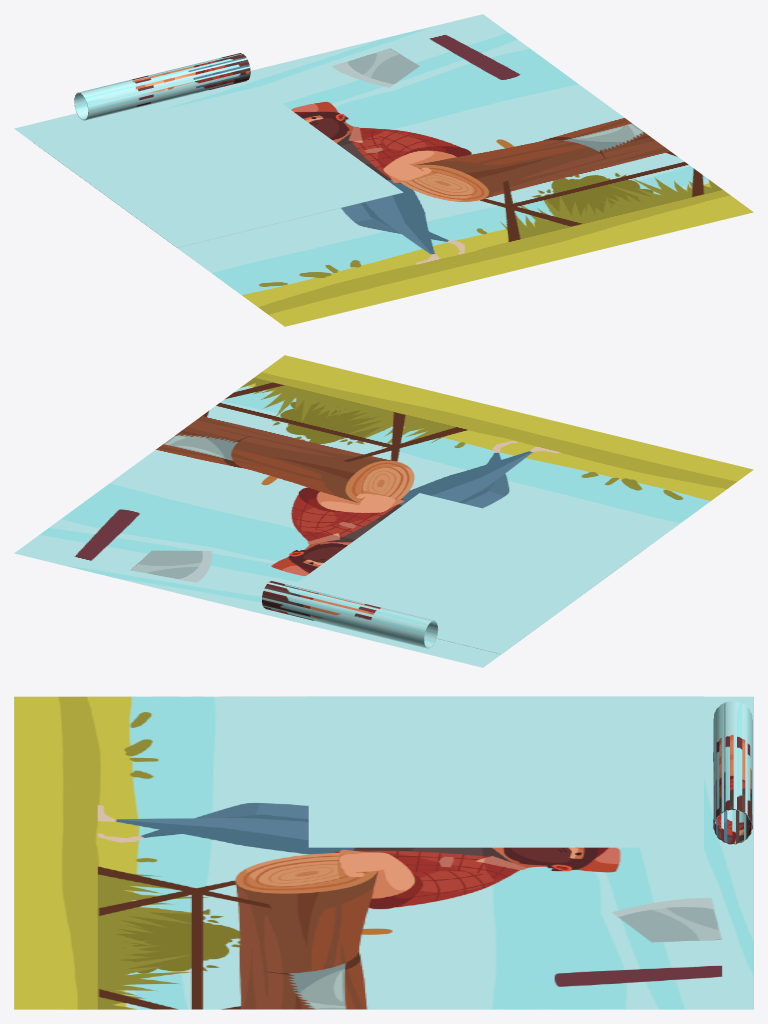
3 renders of one model, top to bottom at view 1: azimuth 30°, elevation 25°; view 2: azimuth 150°, elevation 25°; view 3: azimuth 270°, elevation 25°, orthographic. The views are drawn at different scales.
Parts seen in each view (by area): view 1: Mesh, Blend, Blend1; view 2: Mesh, Blend, Blend1; view 3: Mesh, Blend, Blend1.
Part boxes in pixels (left/top/right/bottom): Mesh: left=14, top=14, right=753, bottom=326; Blend: left=32, top=86, right=403, bottom=247; Blend1: left=74, top=53, right=250, bottom=120; Mesh: left=14, top=355, right=753, bottom=667; Blend: left=293, top=493, right=645, bottom=654; Blend1: left=262, top=581, right=438, bottom=648; Mesh: left=14, top=696, right=753, bottom=1009; Blend: left=308, top=696, right=703, bottom=847; Blend1: left=713, top=701, right=752, bottom=844.
Size of the model in its own units: 2400 by 128 by 2400.
